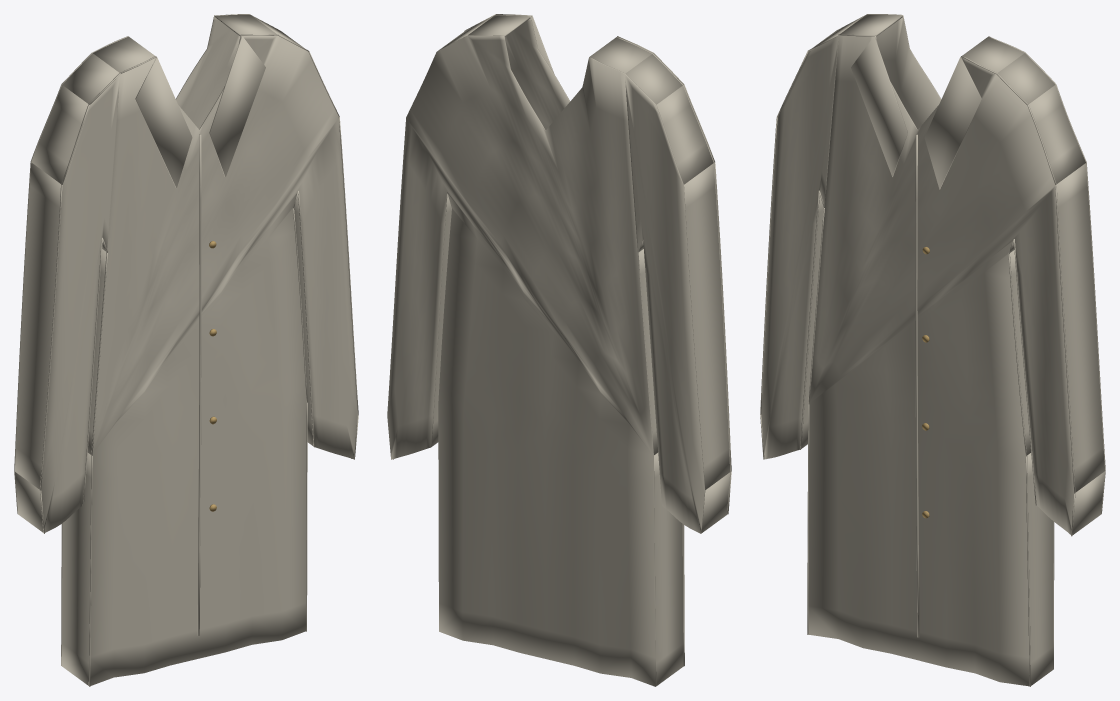
Rendered from shared.coat.gltf.
The picture shows the model from 3 angles, left to right: view 1: azimuth 30°, elevation 25°; view 2: azimuth 150°, elevation 25°; view 3: azimuth 330°, elevation 25°; orthographic projection.
Visible parts, largest first — view 1: shared.coat.front-cloth; view 2: shared.coat.front-cloth; view 3: shared.coat.front-cloth.
Boxes of the visible parts, <box> form: shared.coat.front-cloth: <box>14,14,358,686</box>; shared.coat.front-cloth: <box>387,14,731,686</box>; shared.coat.front-cloth: <box>760,14,1105,686</box>.
Size of the model in its own units: 0.3322 by 0.6165 by 0.0628.
